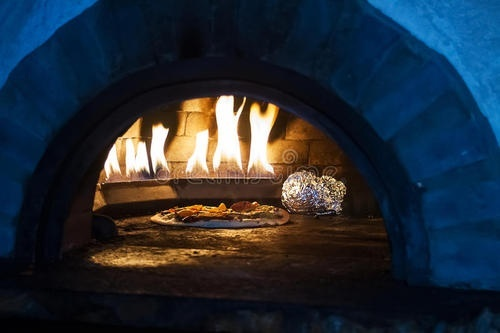fire: (114, 120, 169, 176), (248, 99, 278, 175), (215, 93, 244, 169), (186, 129, 211, 175), (101, 143, 123, 179)
